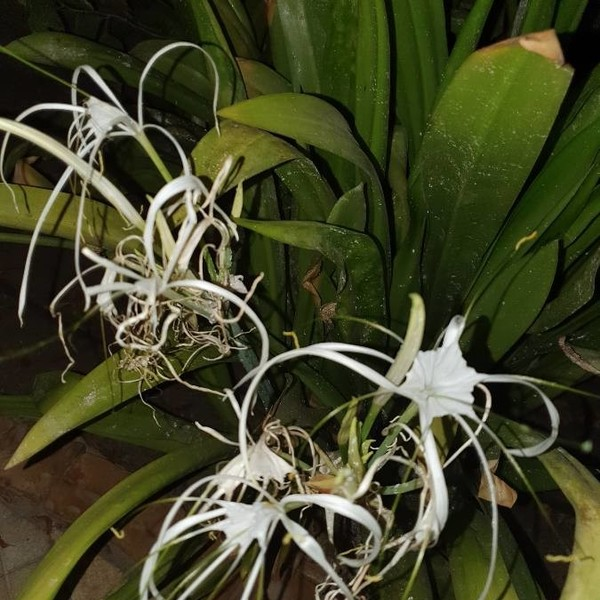obstacle: (152, 66, 566, 363)
